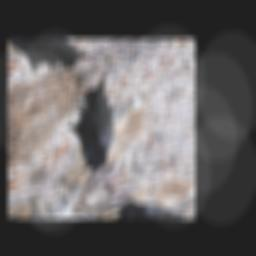Crow: (41, 72, 148, 183)
